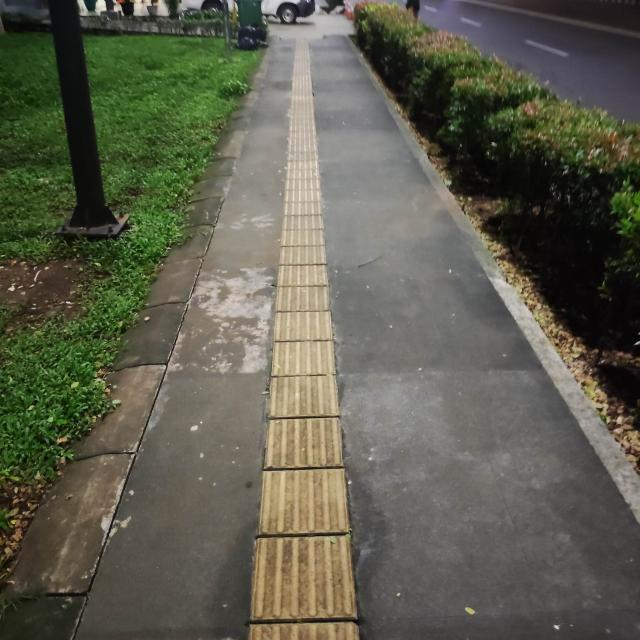lurus: (251, 37, 351, 640)
